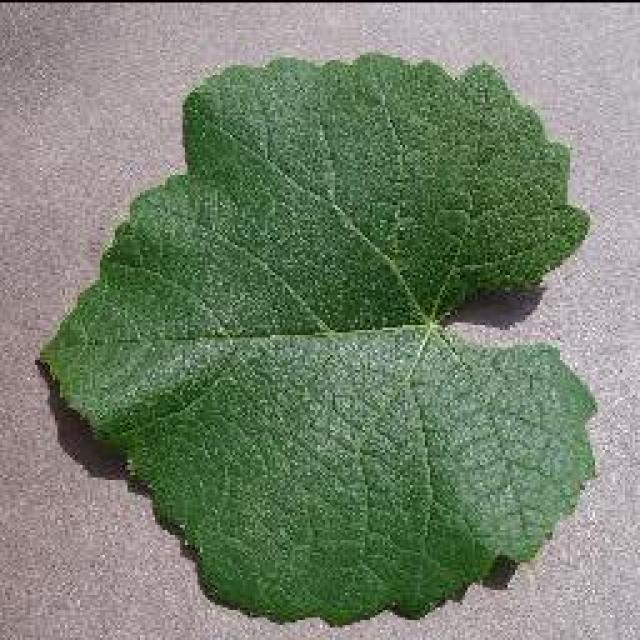Grape___healthy: (42, 55, 592, 622)
